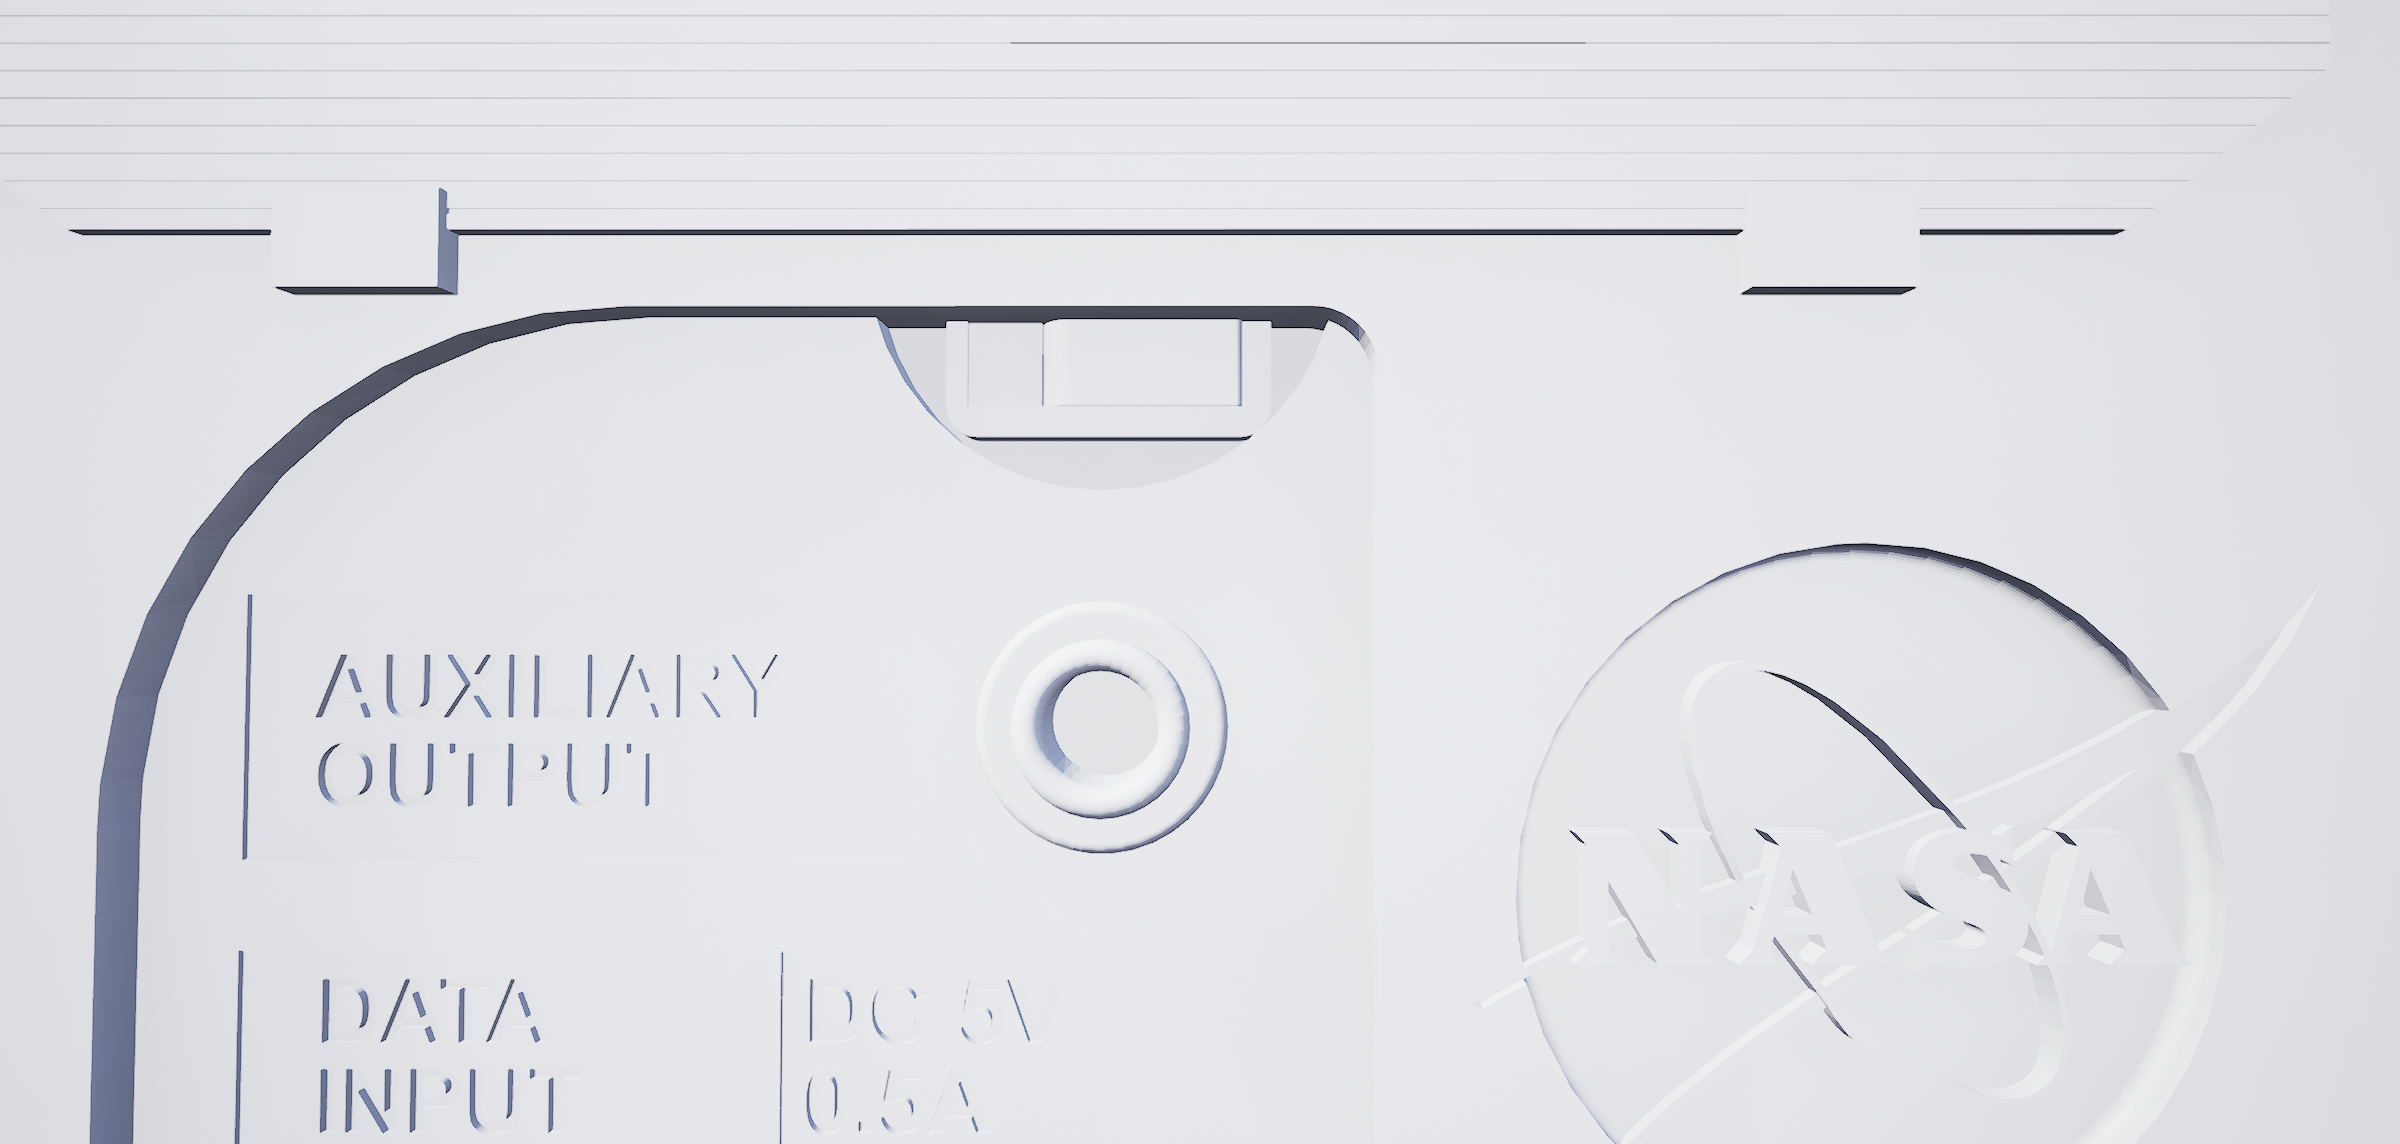aux: (951, 582, 1251, 878)
